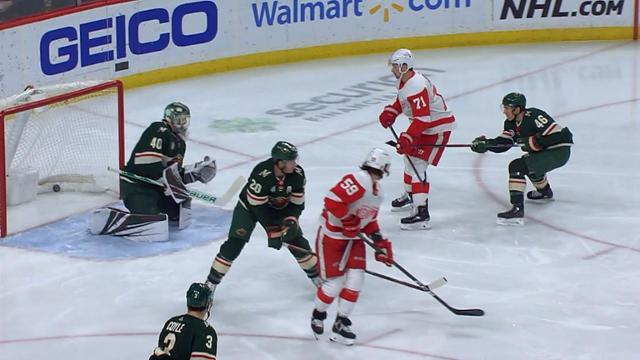geico: (38, 1, 224, 87)
